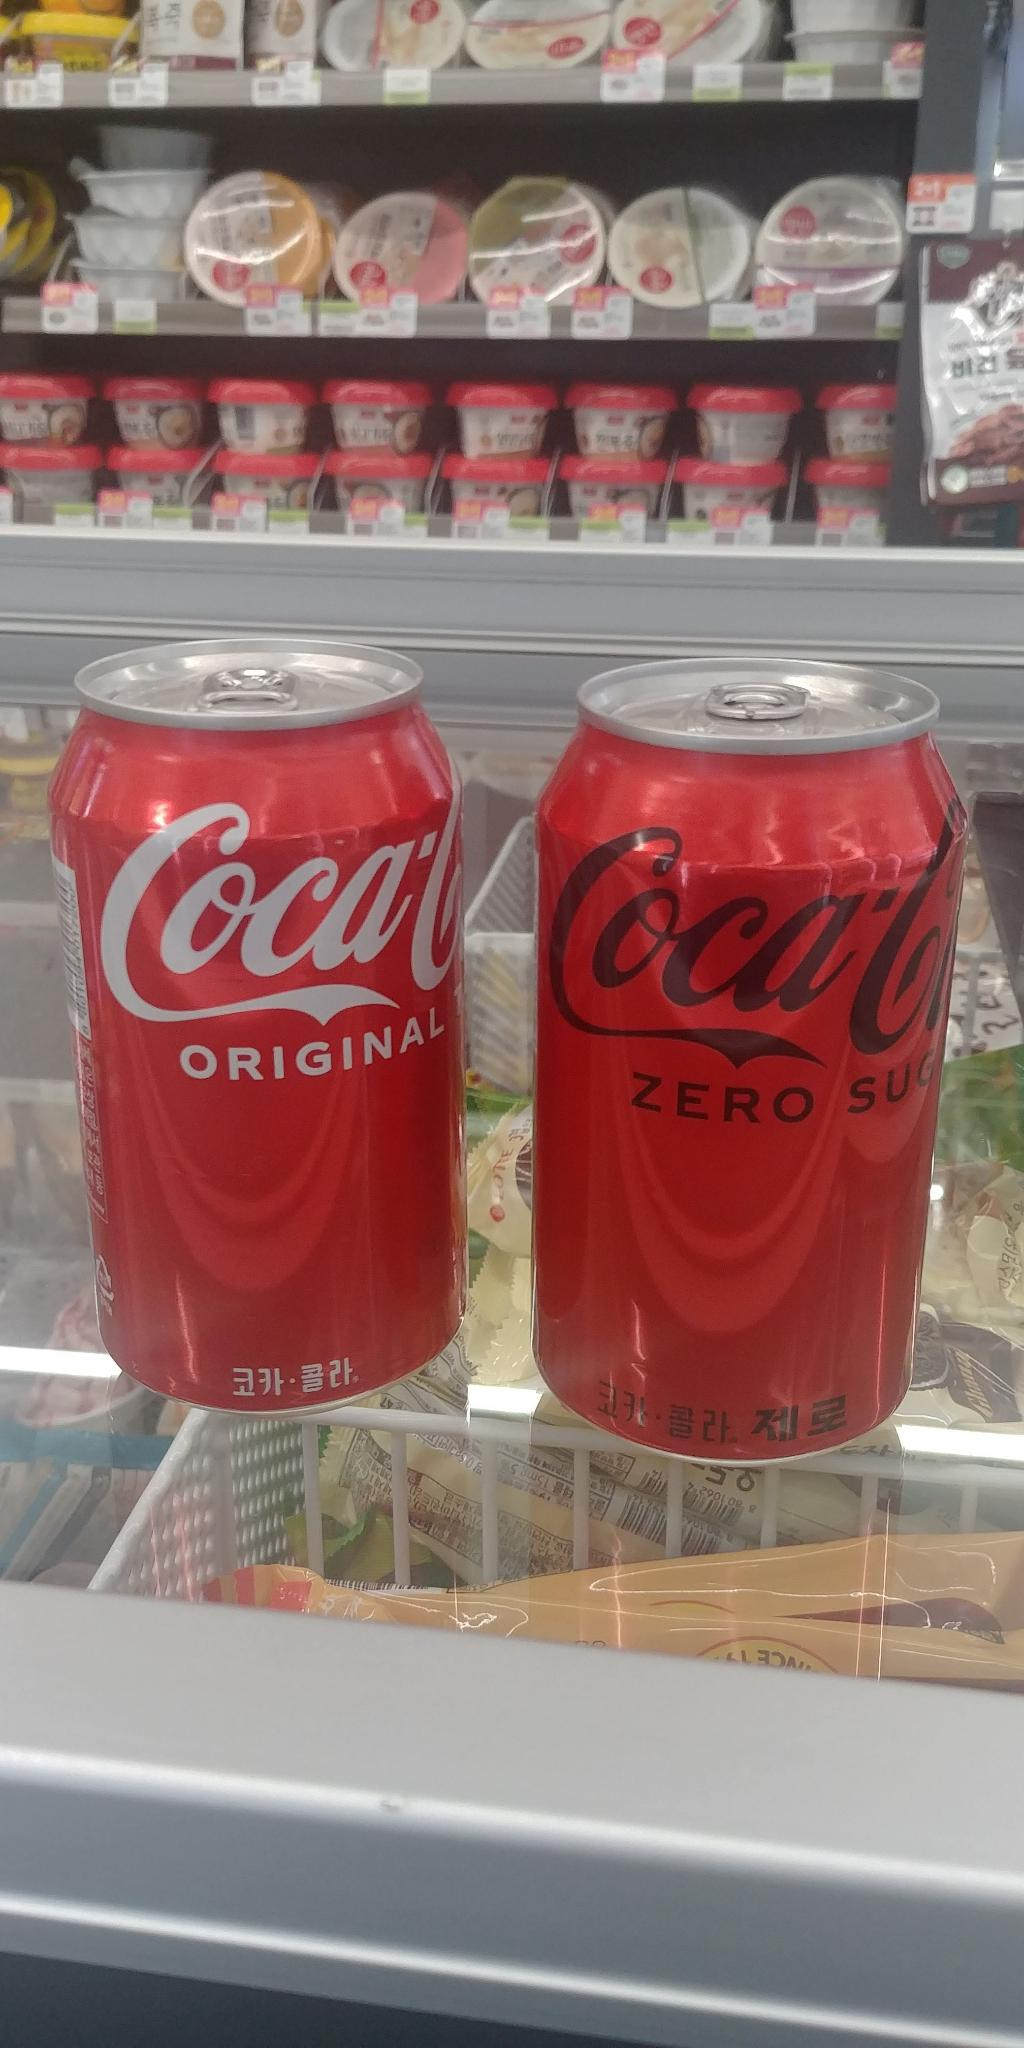cocacola: (40, 616, 487, 1417)
